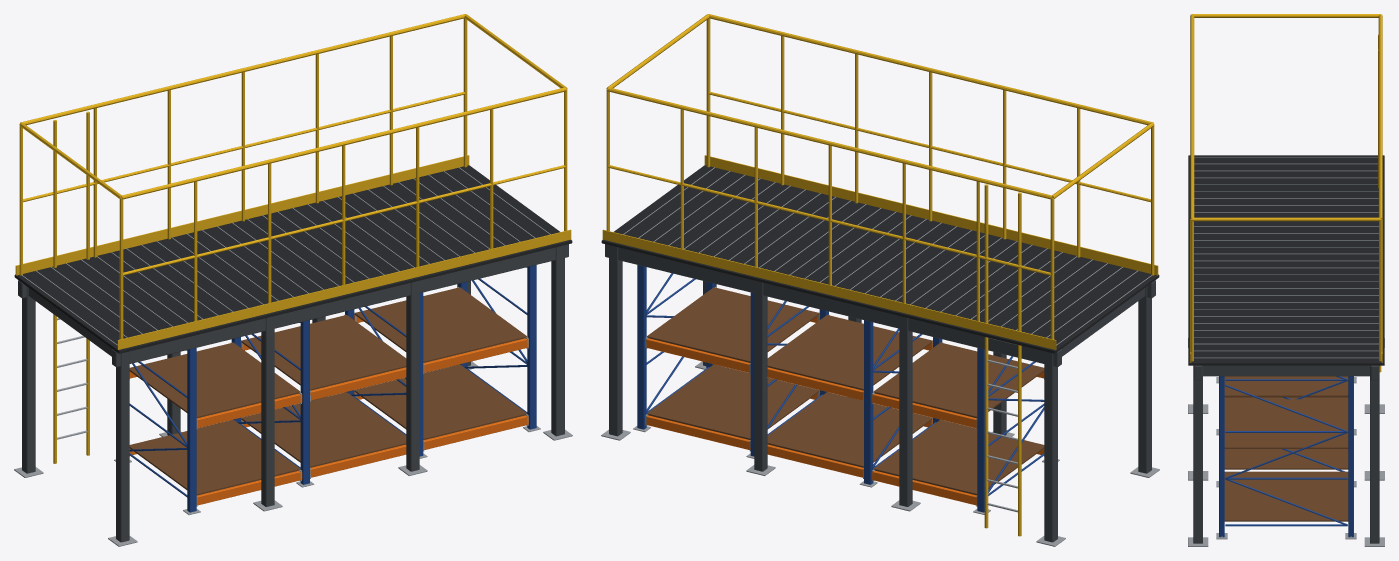
The model's file is mezzanine_racking.glb.
The picture shows the model from 3 angles, left to right: view 1: azimuth 30°, elevation 25°; view 2: azimuth 150°, elevation 25°; view 3: azimuth 270°, elevation 25°; orthographic projection. The views are drawn at different scales.
Parts seen in each view (by area): view 1: mezzanine_racking; view 2: mezzanine_racking; view 3: mezzanine_racking.
Part boxes in pixels (bbox=[...]): mezzanine_racking: bbox=[14, 14, 572, 546]; mezzanine_racking: bbox=[601, 14, 1159, 546]; mezzanine_racking: bbox=[1188, 14, 1384, 546].
Bounding box in the file's own units: 6 × 4.4 × 2.4.
